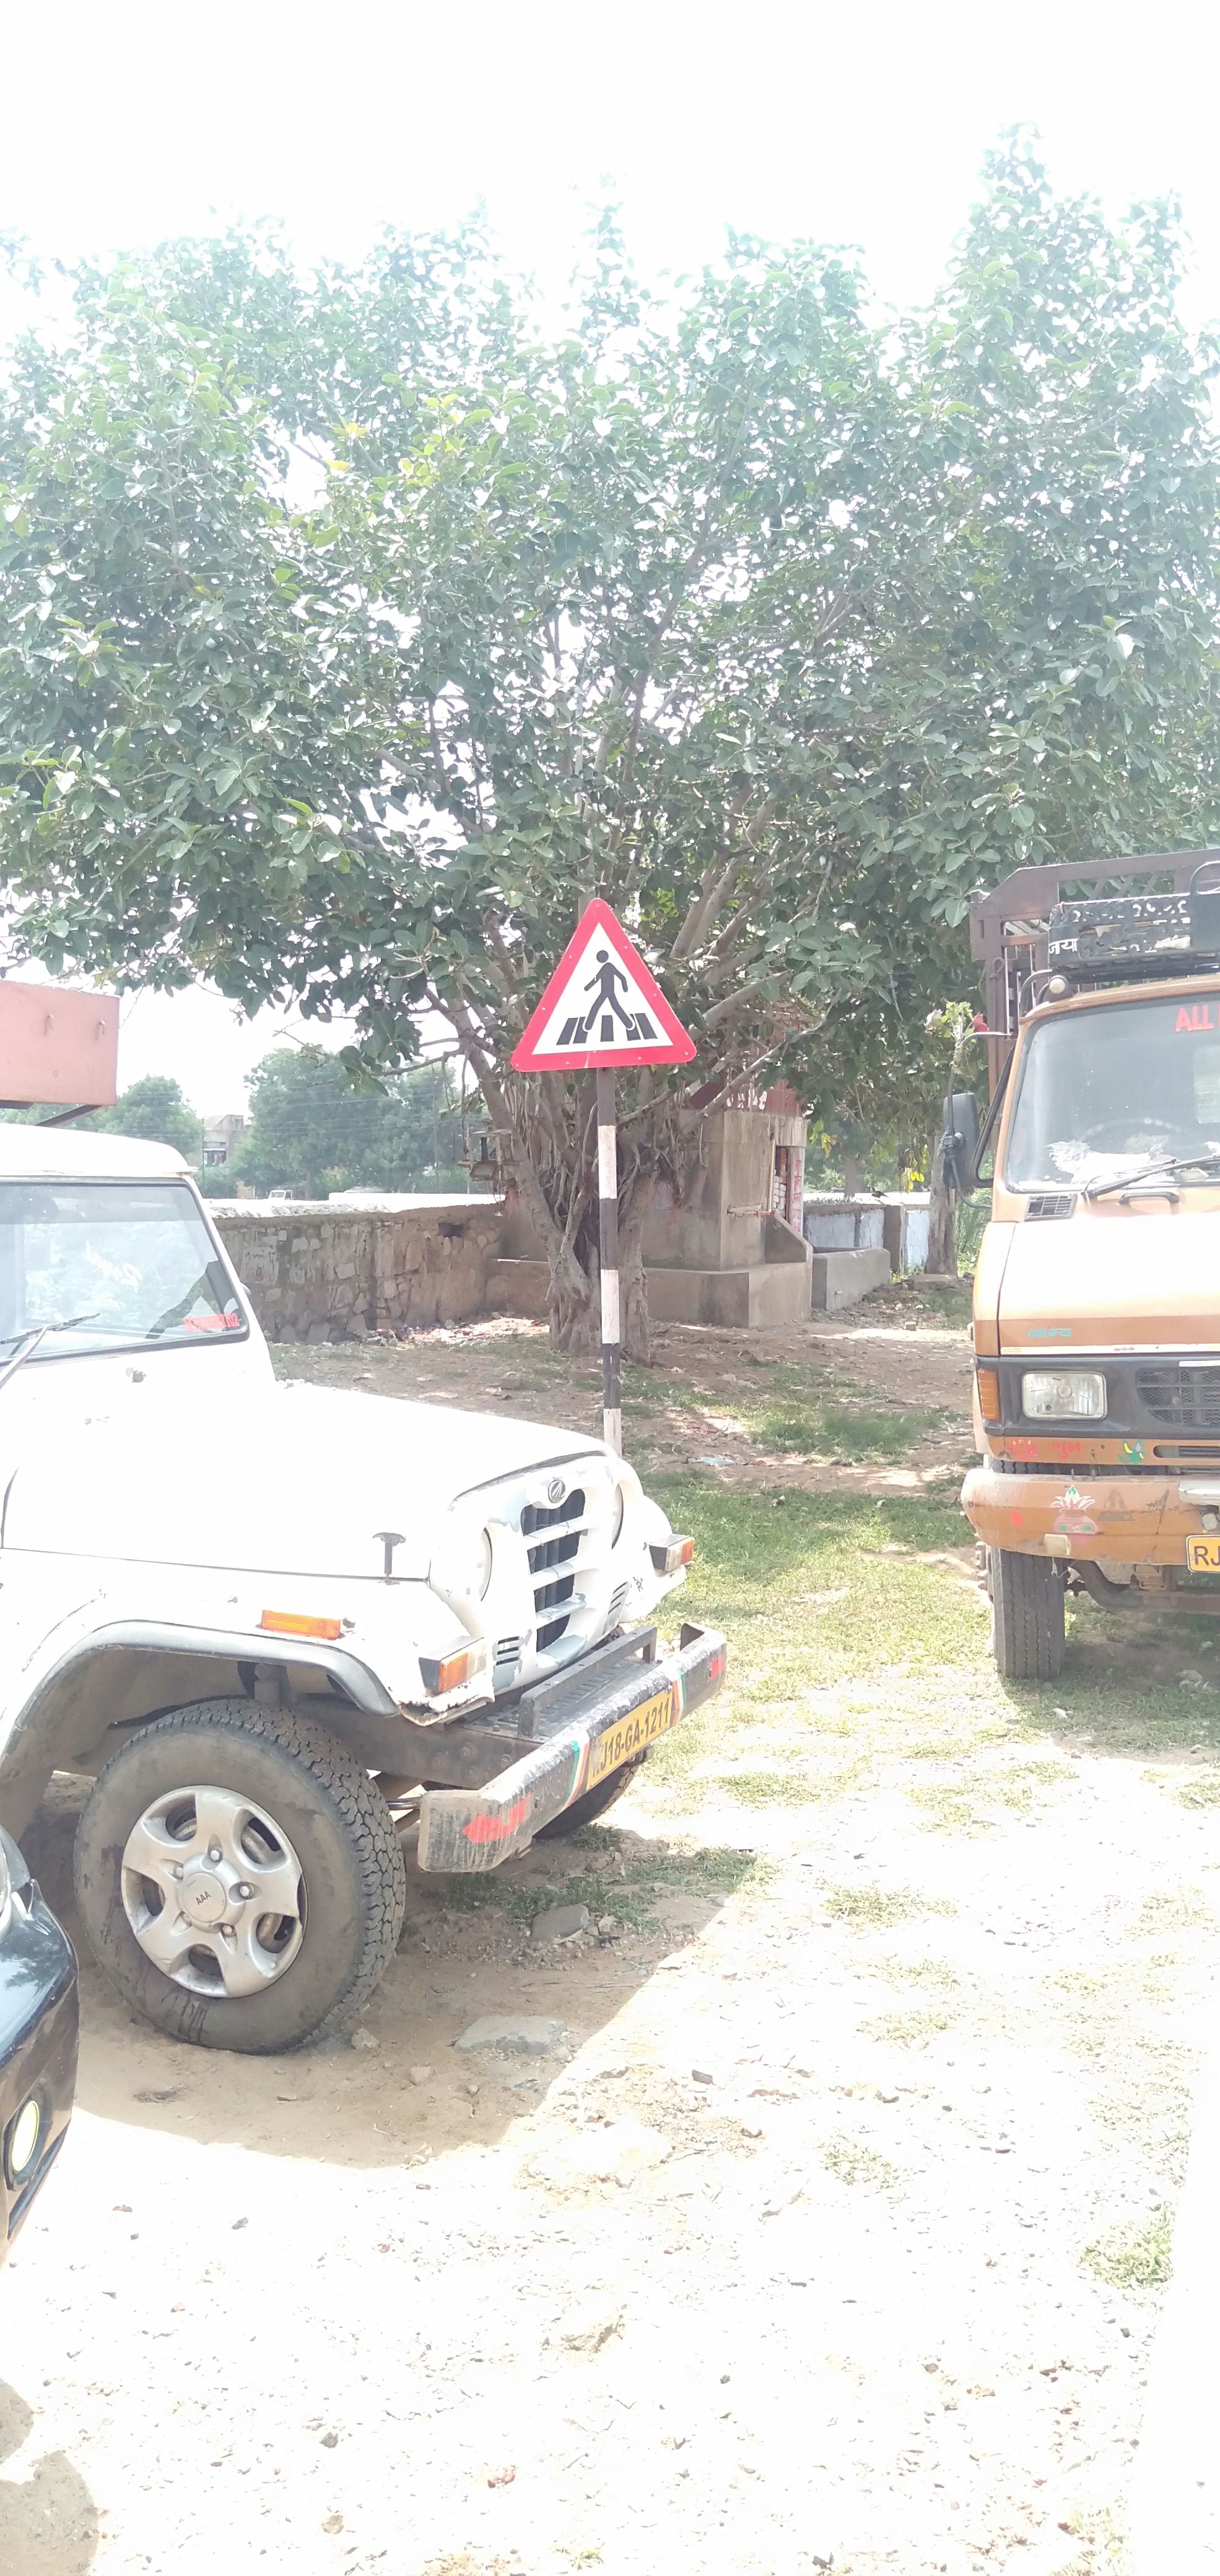traffic_sign: (509, 897, 693, 1074)
